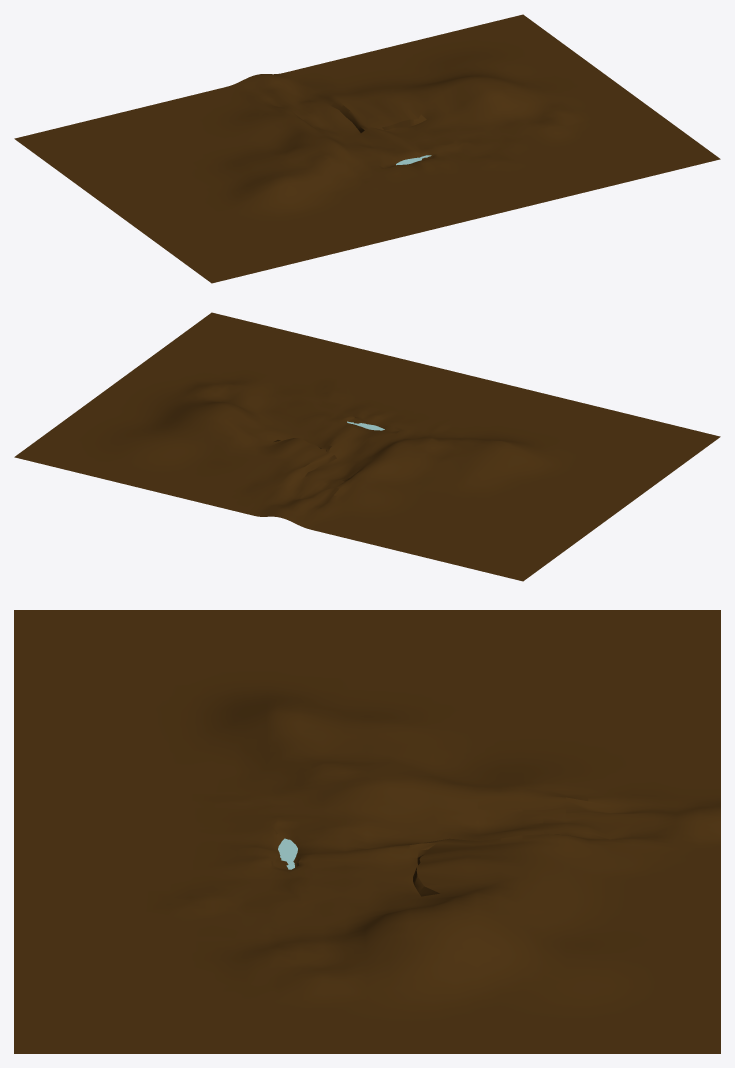
The model's file is terrainMuddy.fbx.
The picture shows the model from 3 angles, top to bottom: view 1: azimuth 30°, elevation 25°; view 2: azimuth 150°, elevation 25°; view 3: azimuth 270°, elevation 25°; orthographic projection. The views are drawn at different scales.
Parts seen in each view (by area): view 1: terrainMuddy; view 2: terrainMuddy; view 3: terrainMuddy.
Boxes of the visible parts, x1=… form: terrainMuddy: x1=14, y1=14, x2=720, y2=283; terrainMuddy: x1=14, y1=312, x2=720, y2=581; terrainMuddy: x1=14, y1=610, x2=720, y2=1053.
Bounding box in the file's own units: 3650 × 166 × 2457.
